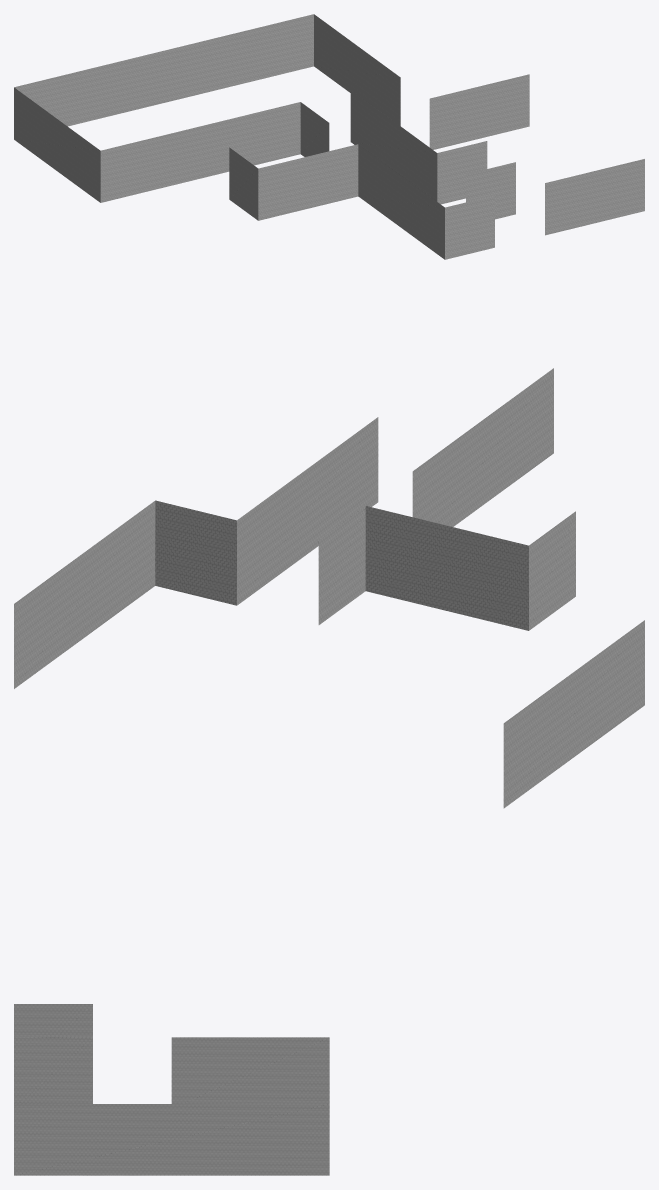
File: DungeonKit_Collider.glb
3 views of the same model, one above another, from view 1: azimuth 30°, elevation 25°; view 2: azimuth 150°, elevation 25°; view 3: azimuth 270°, elevation 25° (orthographic). The views are drawn at different scales.
Visible parts, largest first — view 1: file1; view 2: file1; view 3: file1.
Part boxes in pixels (bbox=[...]): file1: bbox=[14, 14, 644, 259]; file1: bbox=[14, 368, 644, 808]; file1: bbox=[14, 1004, 329, 1175].
Bounding box in the file's own units: 40 × 5 × 40.
Materials: 1 (1 with a texture image).
